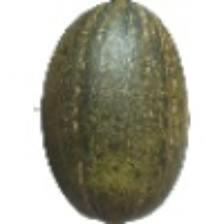honeydew: (34, 37, 224, 199)
